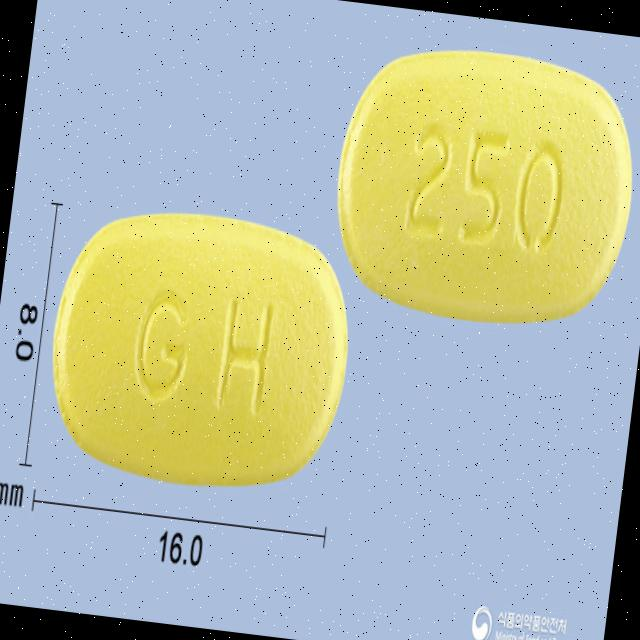Clana: (32, 190, 368, 509), (320, 28, 640, 345)
